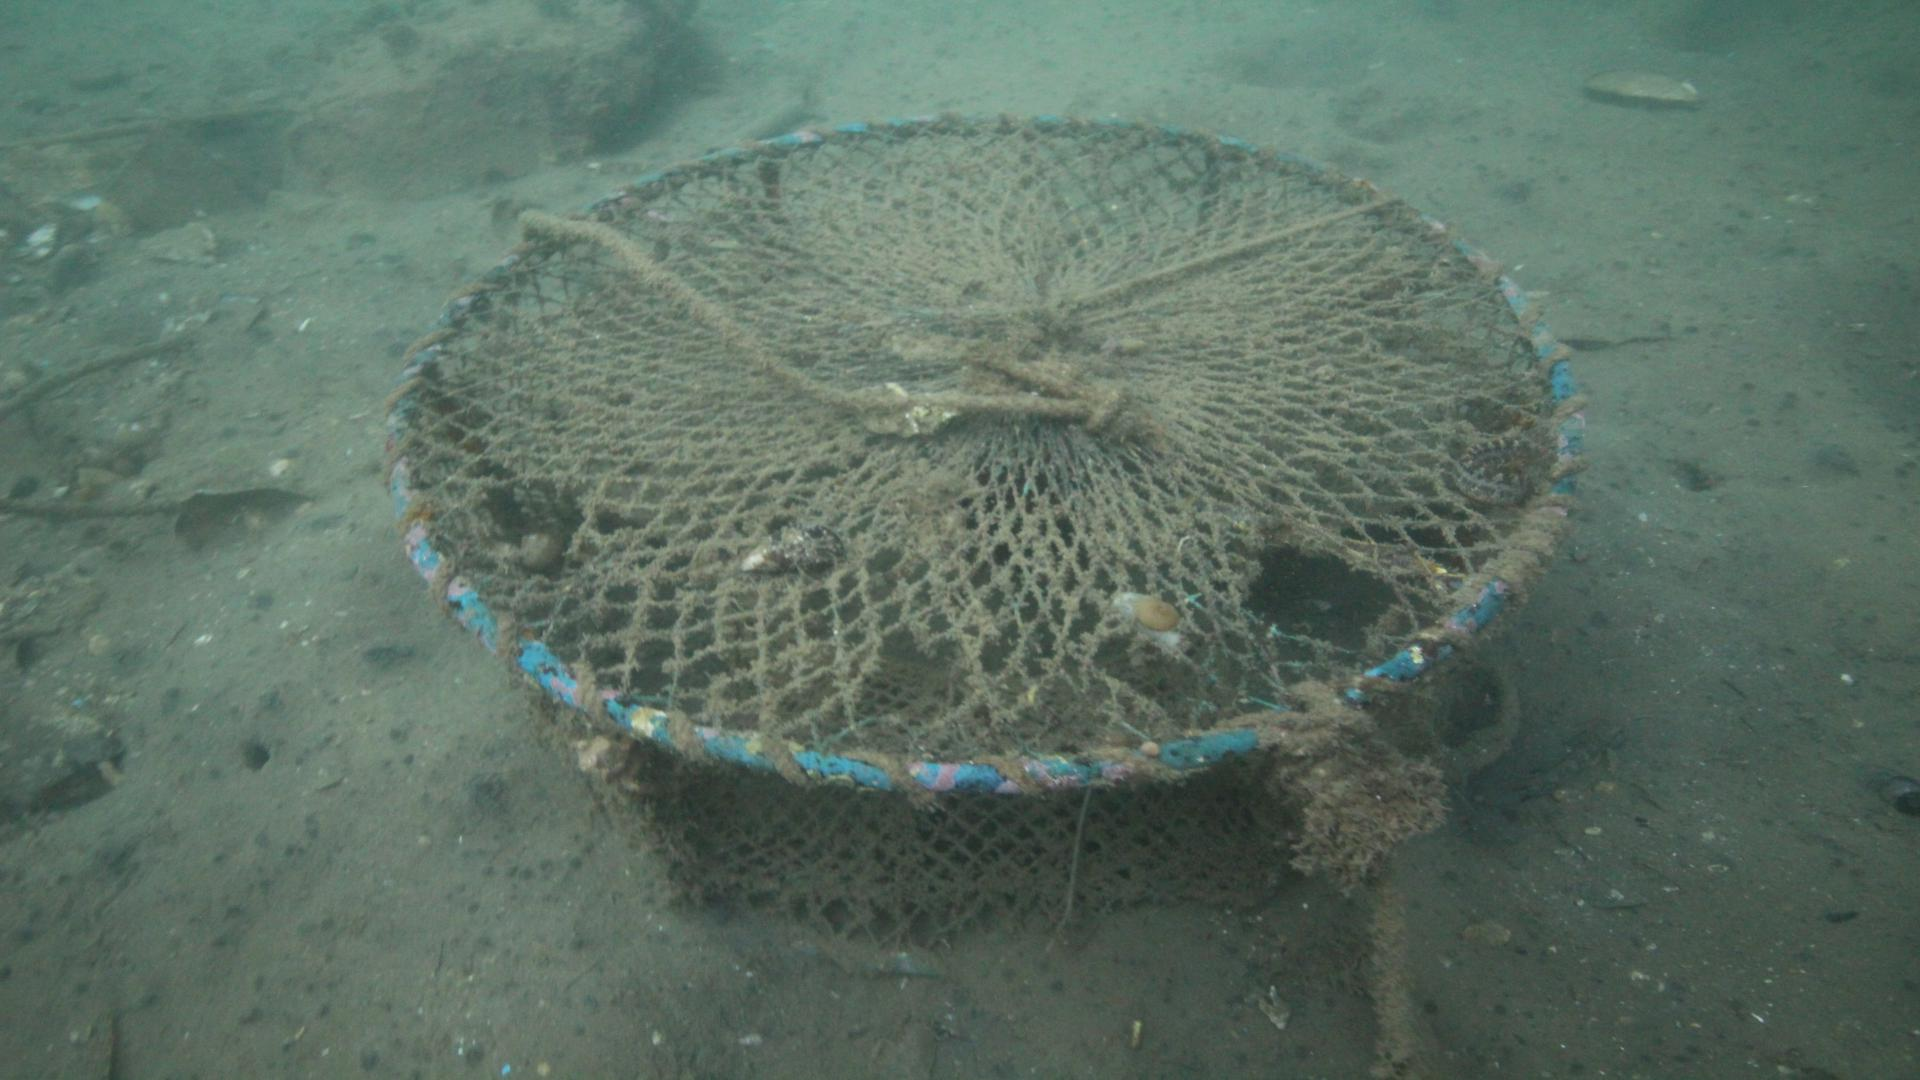circular fish trap: (378, 108, 1585, 926)
rope: (488, 189, 1120, 451)
